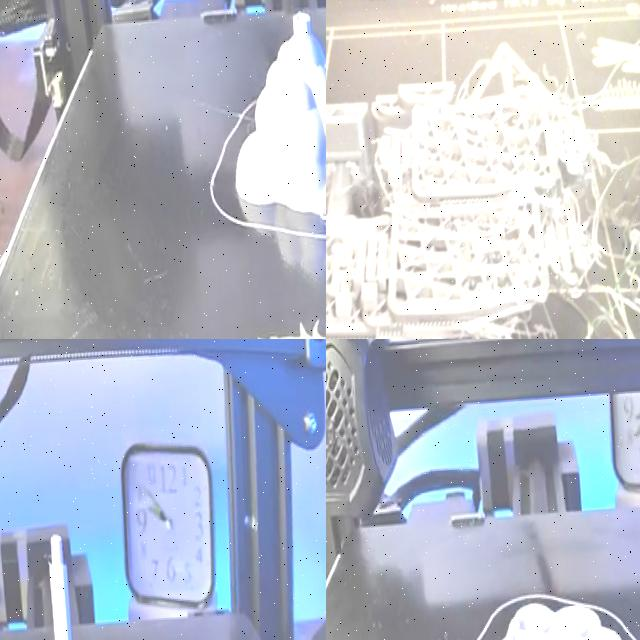spaghetti: (516, 2, 640, 339)
